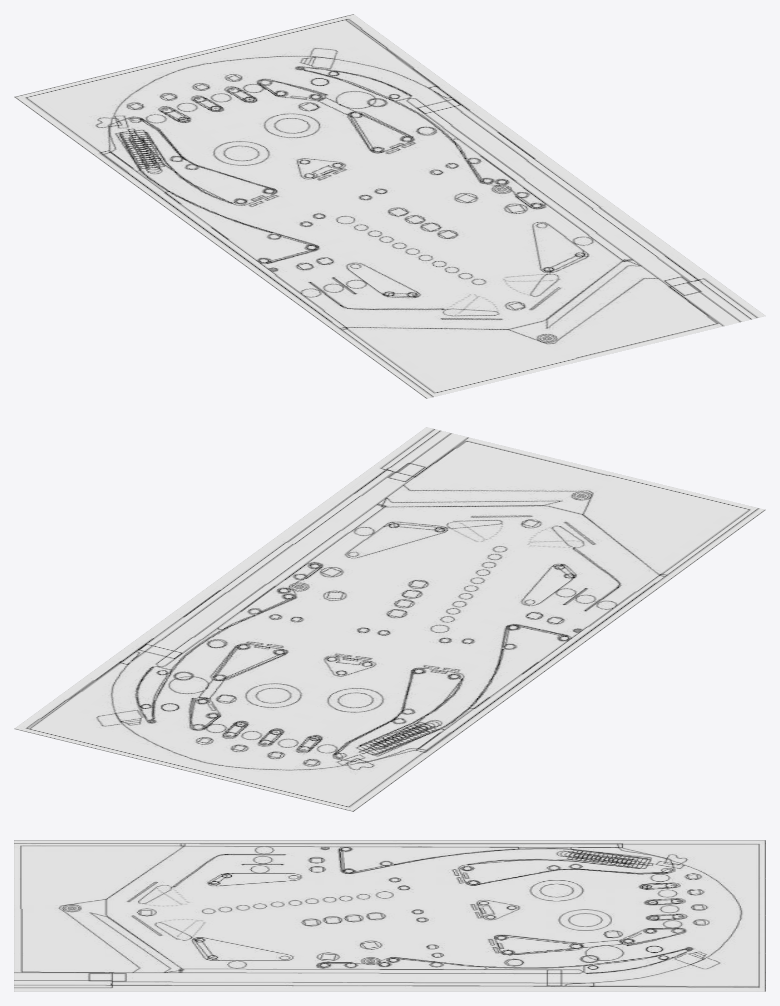
File: Plane-to-scale.FBX
3 renders of one model, top to bottom at view 1: azimuth 30°, elevation 25°; view 2: azimuth 150°, elevation 25°; view 3: azimuth 270°, elevation 25°, orthographic. The views are drawn at different scales.
Visible parts, largest first — view 1: Plane; view 2: Plane; view 3: Plane.
Boxes of the visible parts, x1,y1,x2,y2 form: Plane: [14, 14, 765, 398]; Plane: [14, 427, 765, 811]; Plane: [14, 840, 765, 991].
Bounding box in the file's own units: 51.89 × 6.69e-15 × 109.
